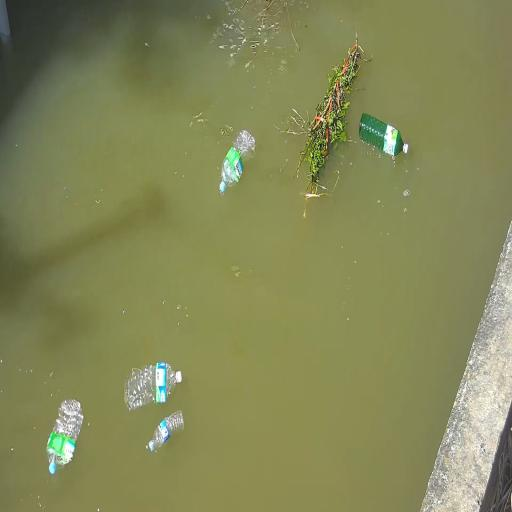plastic: (123, 353, 179, 414), (44, 395, 84, 477), (355, 107, 408, 161), (216, 128, 252, 196), (145, 410, 185, 452)
twig: (294, 48, 360, 194), (251, 0, 286, 15)
